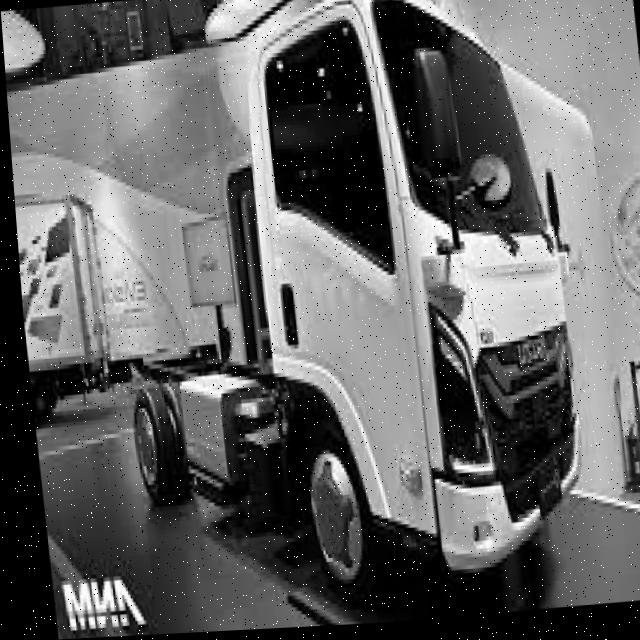truck: (215, 1, 609, 616)
